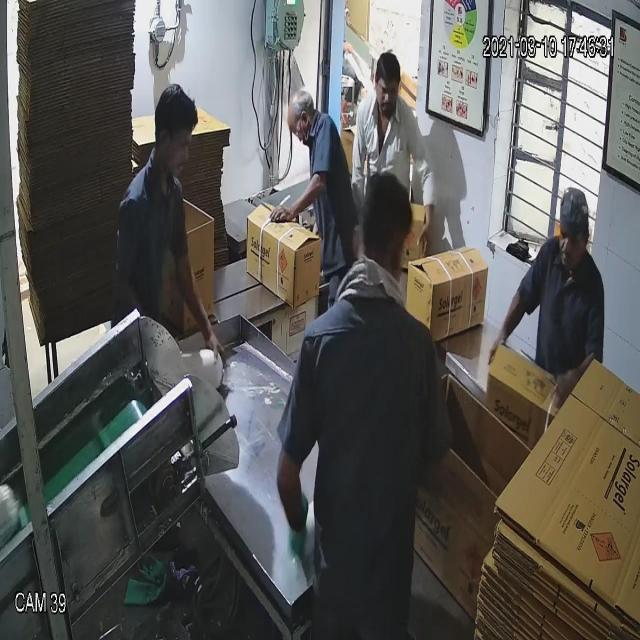No_Gloves: (34, 75, 510, 326)
